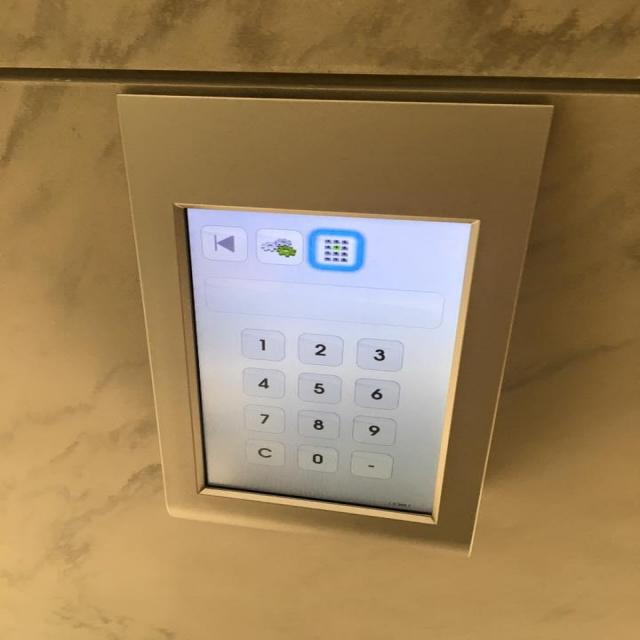-: (349, 450, 393, 479)
0: (296, 444, 337, 473)
1: (238, 327, 284, 360)
2: (293, 331, 343, 366)
3: (351, 334, 405, 372)
4: (241, 368, 286, 398)
5: (296, 372, 340, 402)
6: (353, 376, 401, 410)
7: (241, 404, 284, 432)
8: (297, 408, 339, 436)
9: (351, 415, 396, 444)
C: (244, 438, 284, 465)
unknown: (308, 228, 361, 270), (254, 228, 302, 265), (200, 225, 247, 260)
